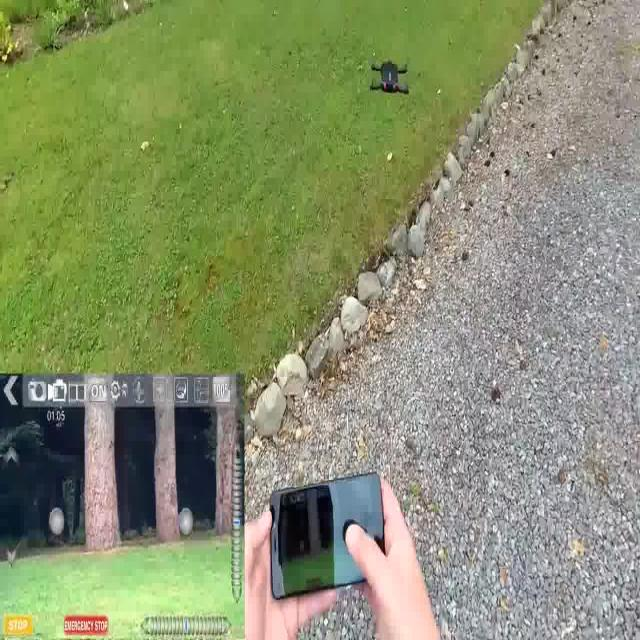drone: (368, 54, 415, 104)
